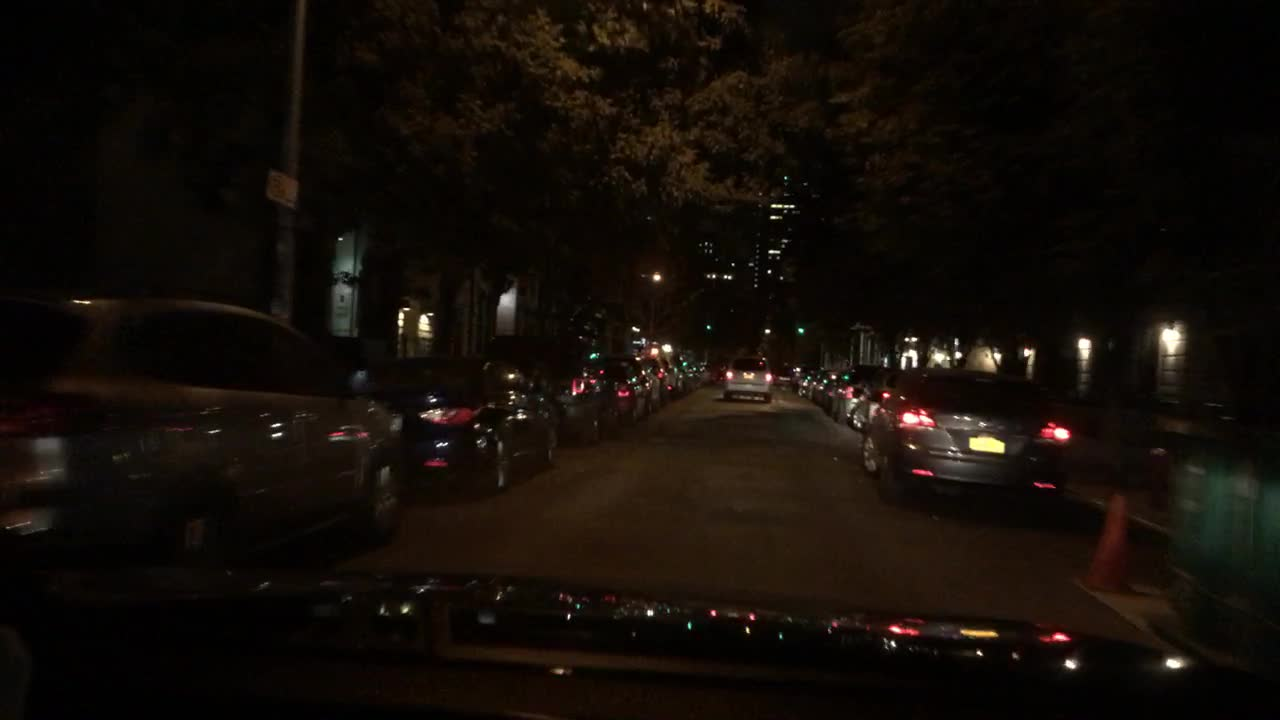car: (2, 291, 406, 578), (859, 368, 1073, 511), (369, 355, 558, 494), (495, 334, 616, 446), (845, 363, 909, 429), (819, 361, 877, 413), (722, 351, 774, 405), (611, 356, 646, 427), (626, 353, 661, 411), (808, 369, 845, 401), (648, 356, 672, 401), (666, 356, 682, 395), (797, 370, 819, 395), (778, 366, 801, 386), (682, 358, 696, 390)
traffic light: (794, 321, 806, 335), (707, 316, 711, 330)
traffic sign: (262, 170, 295, 209)
